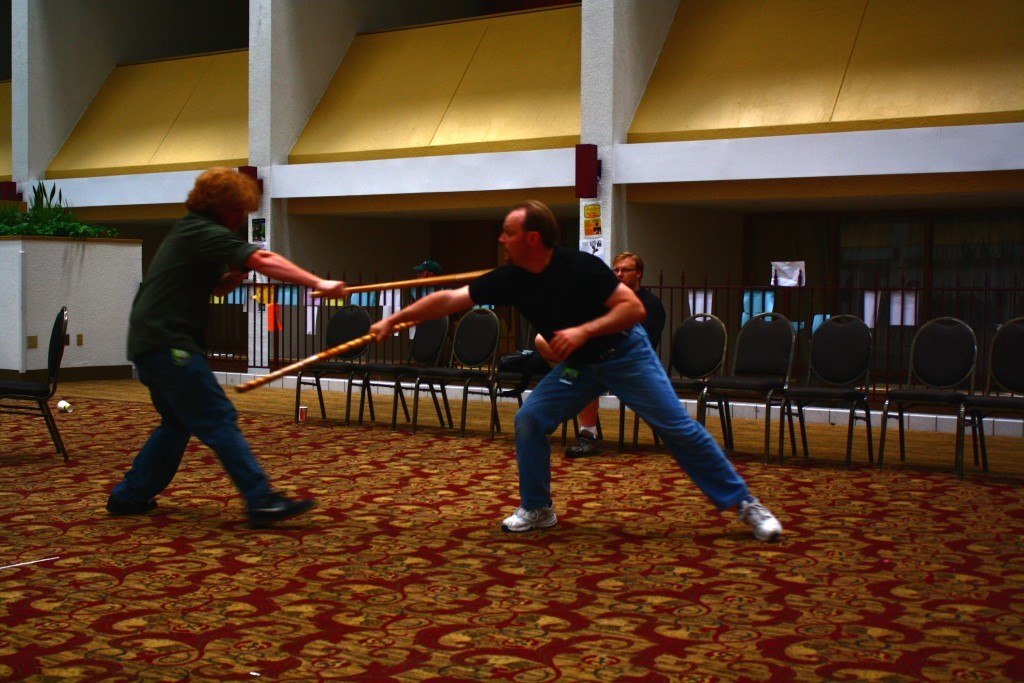baston_e: (246, 318, 404, 392), (317, 266, 492, 300)
baston_v: (389, 317, 420, 333), (304, 289, 324, 301), (231, 381, 246, 396)
